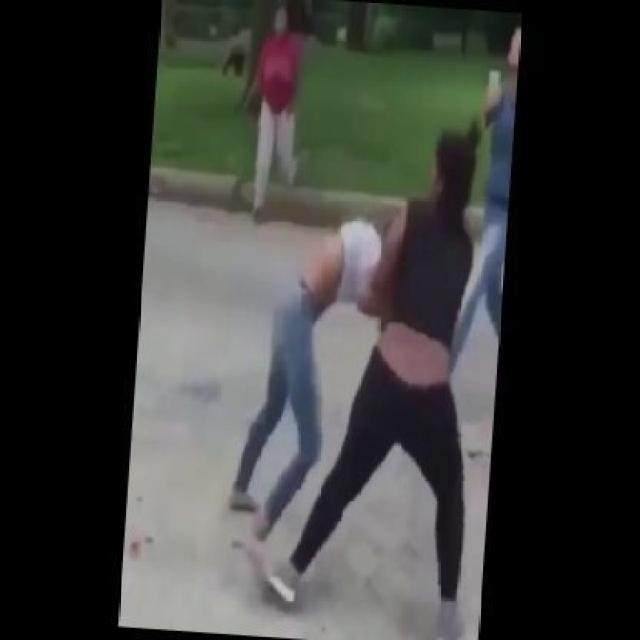fight: (175, 101, 536, 638)
